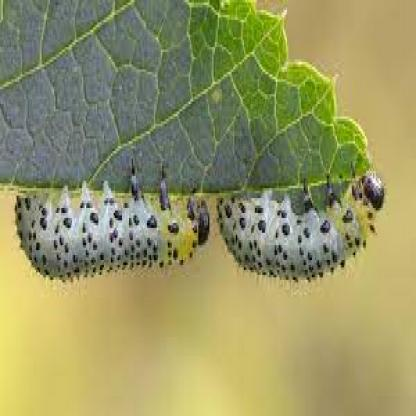sawfly: (13, 151, 211, 294), (215, 156, 386, 296)
